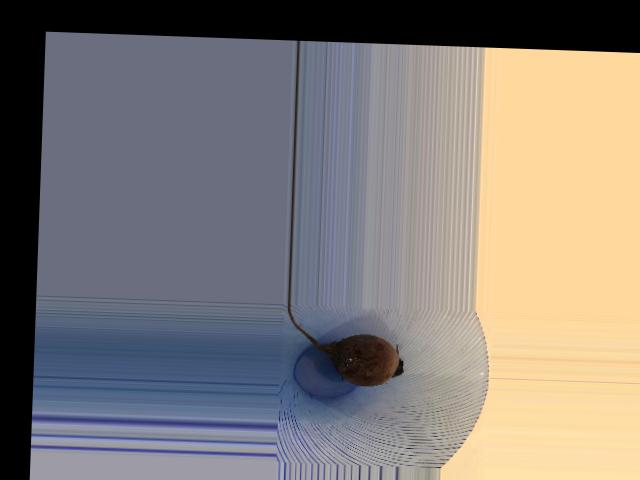beet: (285, 303, 406, 387)
